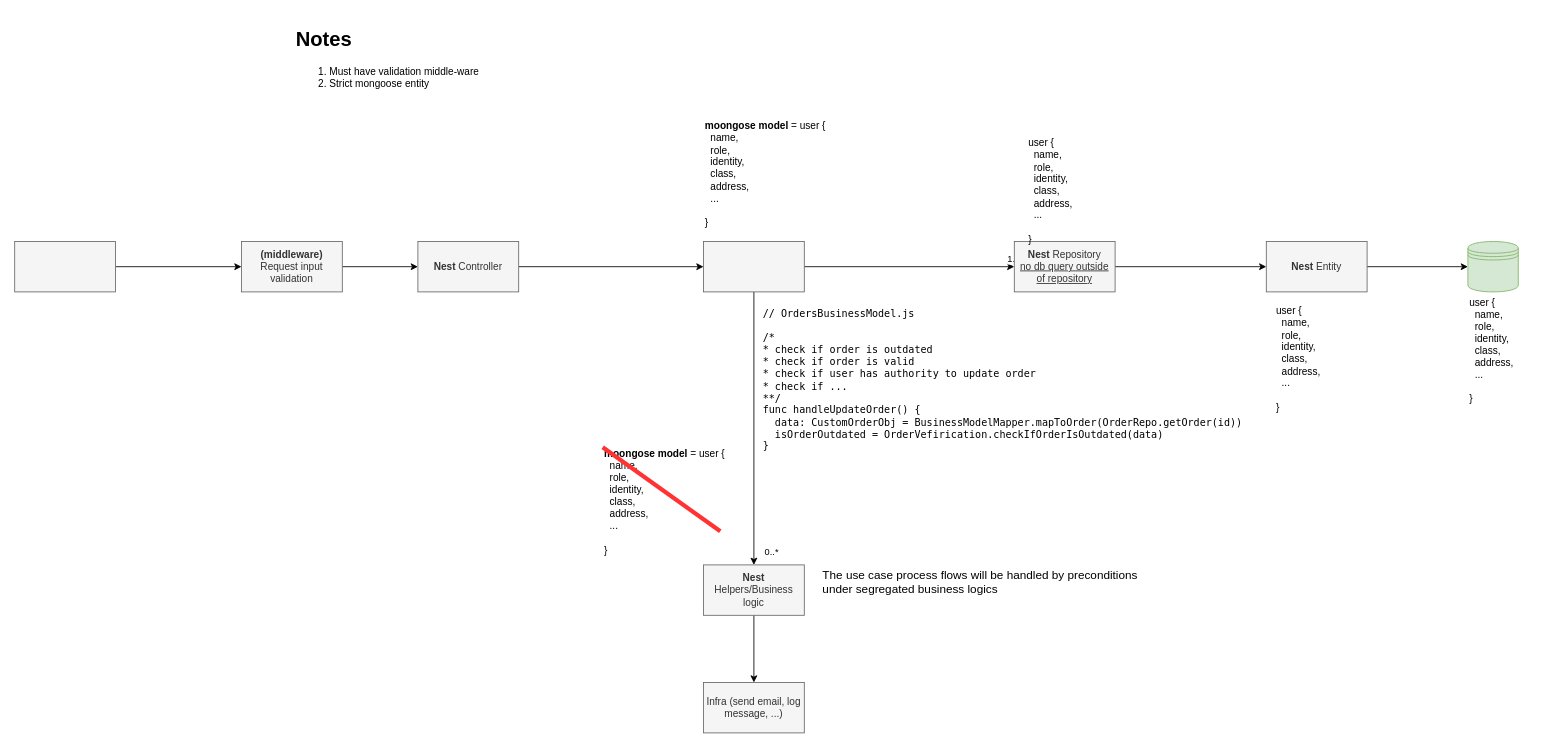
Image size: 1550x748. Some labels were removed from this diagram. The shapes that lost their labels are listed below. From the top down, each one's centre as x and y in pixels, then its label:
At [65,266]: "Router".
At [753,266]: "Nest Business Model".
At [1492,266]: "DB".
